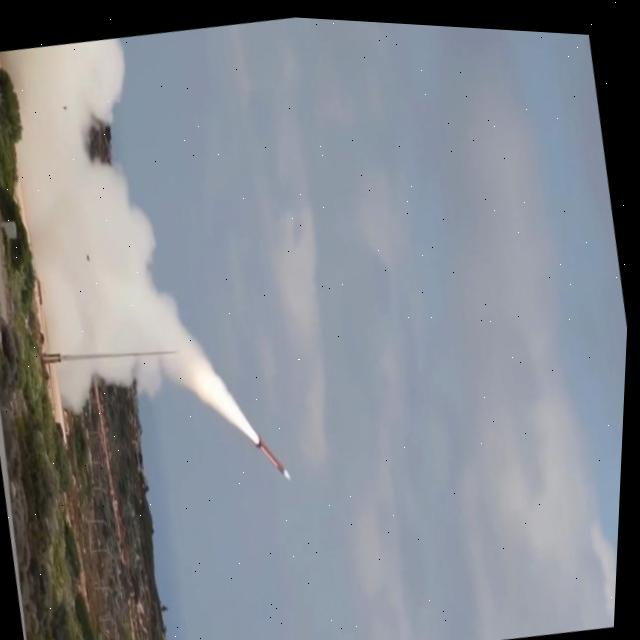missile: (252, 428, 298, 483)
